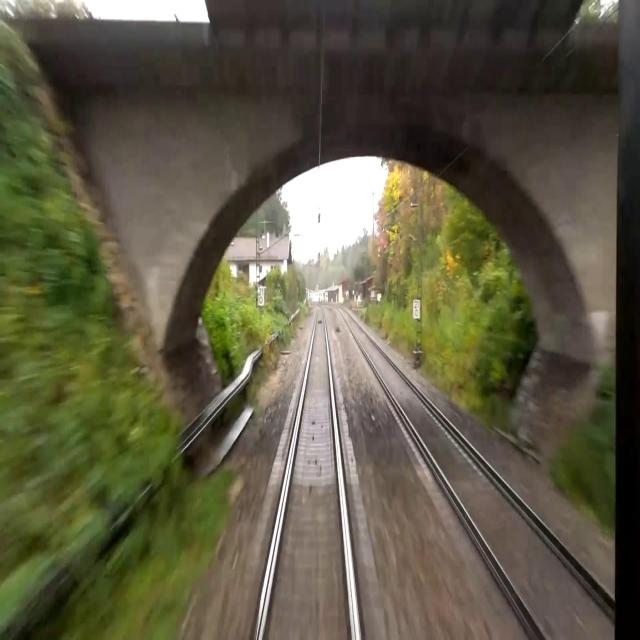rail-track: (341, 309, 640, 639), (260, 305, 354, 639)
